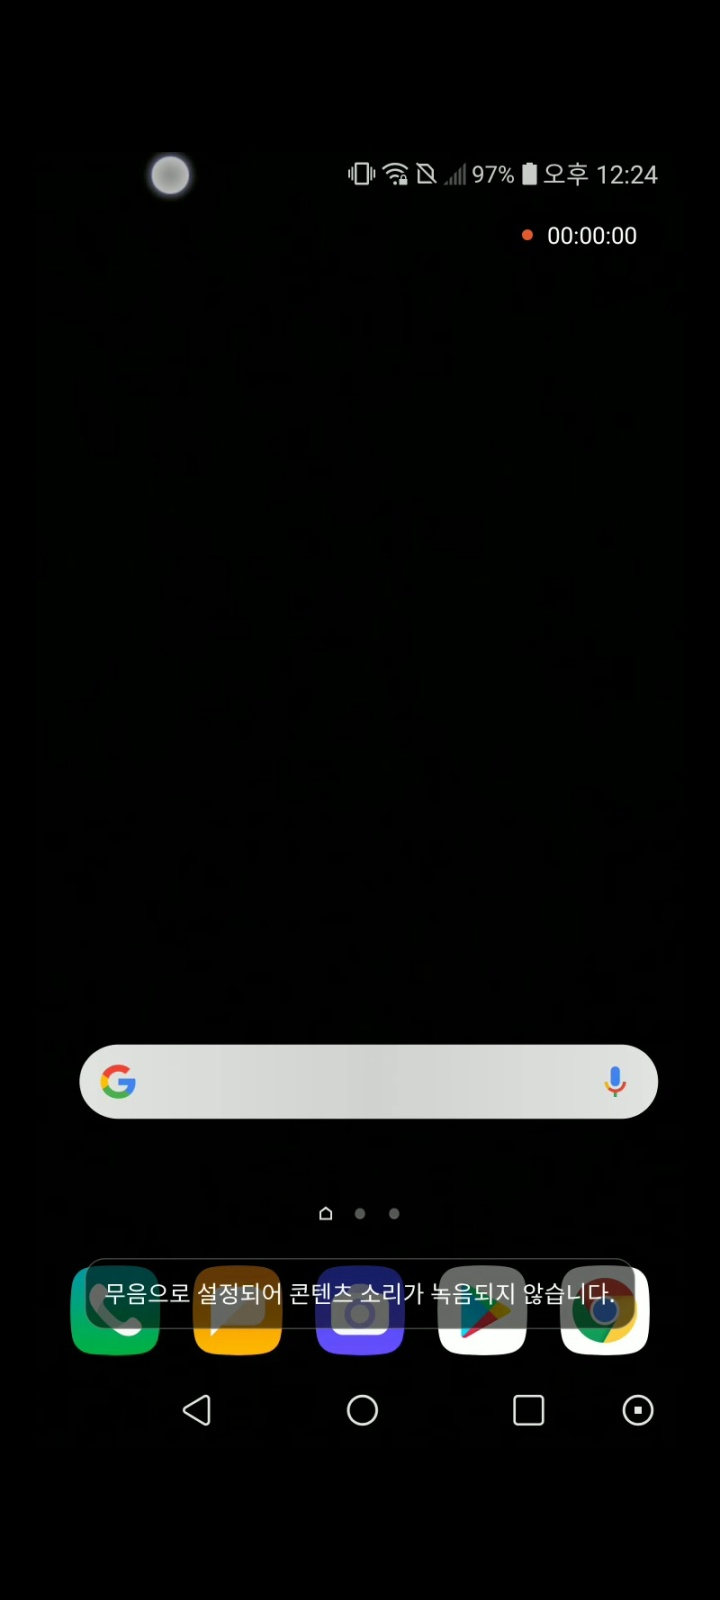Cursor: (149, 153, 194, 197)
